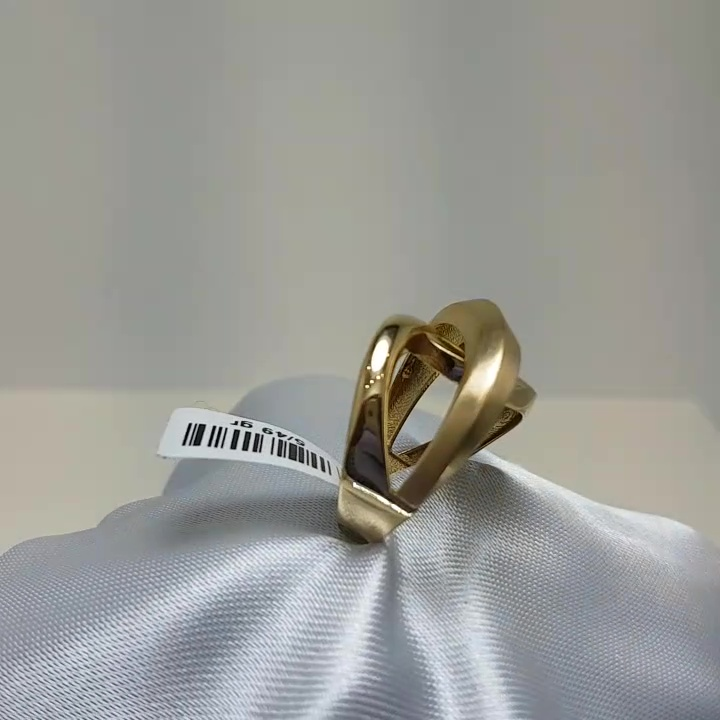Ring 3: (292, 269, 552, 565)
